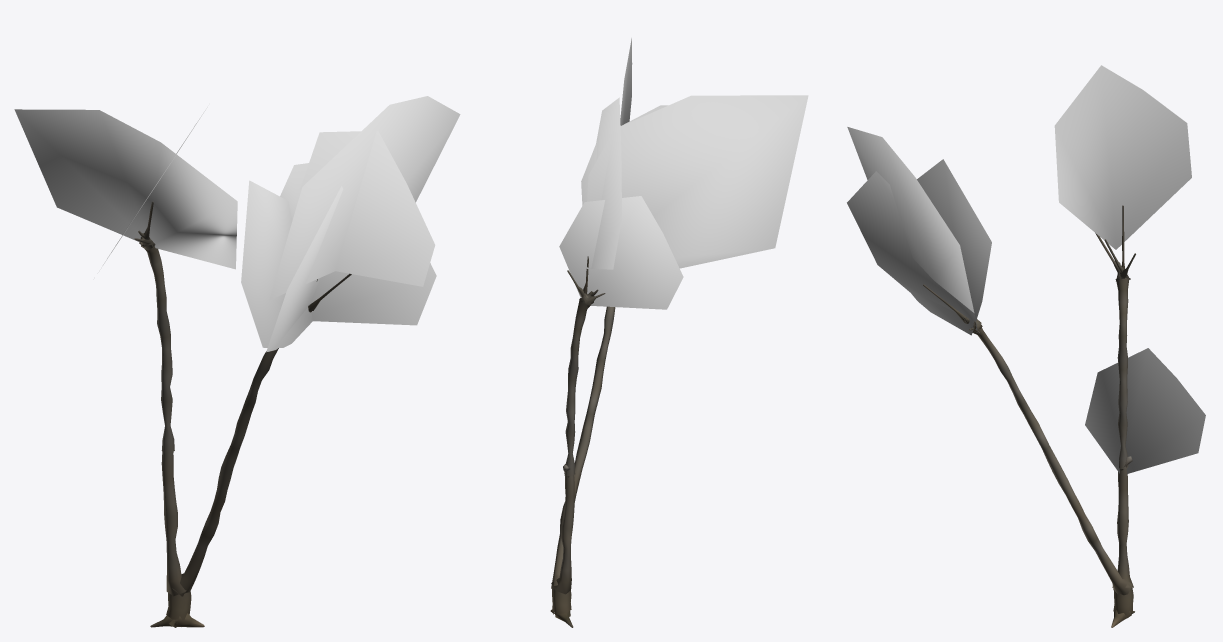
File: slender_6.glb
3 renders of one model, left to right at view 1: azimuth 30°, elevation 25°; view 2: azimuth 150°, elevation 25°; view 3: azimuth 270°, elevation 25°, orthographic. The views are drawn at different scales.
Visible parts, largest first — view 1: slender_6; view 2: slender_6; view 3: slender_6.
Boxes of the visible parts, <box> form: slender_6: <box>14,96,460,627</box>; slender_6: <box>550,38,808,627</box>; slender_6: <box>847,65,1205,627</box>.
Size of the model in its own units: 5.3 by 8.13 by 5.15.
